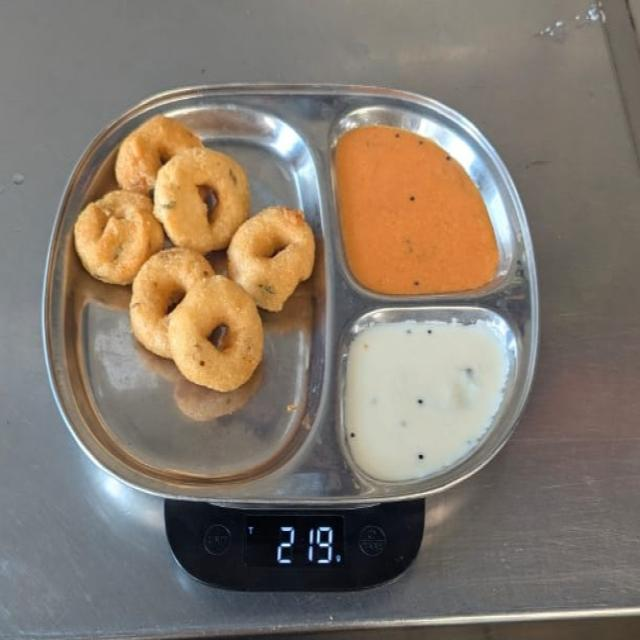Chutney: (334, 122, 501, 292), (343, 318, 510, 478)
Vada: (71, 115, 316, 392)
